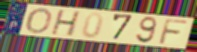0: (80, 12, 105, 40)
7: (111, 13, 134, 42)
9: (135, 16, 159, 45)
F: (157, 18, 189, 46)
H: (50, 9, 83, 38)
O: (24, 7, 54, 35)
